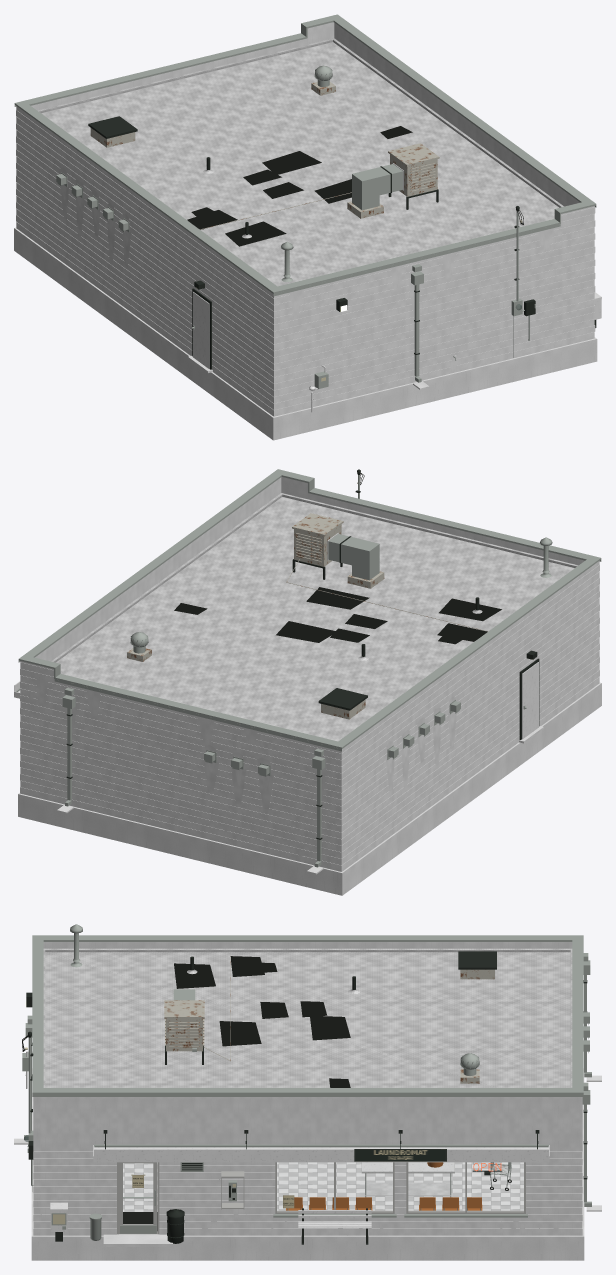
File: Laundry.glb
The picture shows the model from 3 angles, top to bottom: view 1: azimuth 30°, elevation 25°; view 2: azimuth 150°, elevation 25°; view 3: azimuth 270°, elevation 25°; orthographic projection. The views are drawn at different scales.
Parts seen in each view (by area): view 1: SM_Town_Laundry_Shell, SM_Town_Laundry_Fixtures; view 2: SM_Town_Laundry_Shell; view 3: SM_Town_Laundry_Shell, SM_Town_Laundry_Interior, SM_Town_Laundry_Fixtures.
Boxes of the visible parts, x1,y1,x2,y2 form: SM_Town_Laundry_Shell: [14, 14, 601, 440]; SM_Town_Laundry_Fixtures: [192, 192, 535, 412]; SM_Town_Laundry_Shell: [14, 469, 601, 895]; SM_Town_Laundry_Shell: [14, 924, 601, 1260]; SM_Town_Laundry_Interior: [123, 1162, 523, 1230]; SM_Town_Laundry_Fixtures: [22, 955, 539, 1233].
Size of the model in its own units: 11.13 by 5.55 by 15.24.
41 materials, 29 textured.
